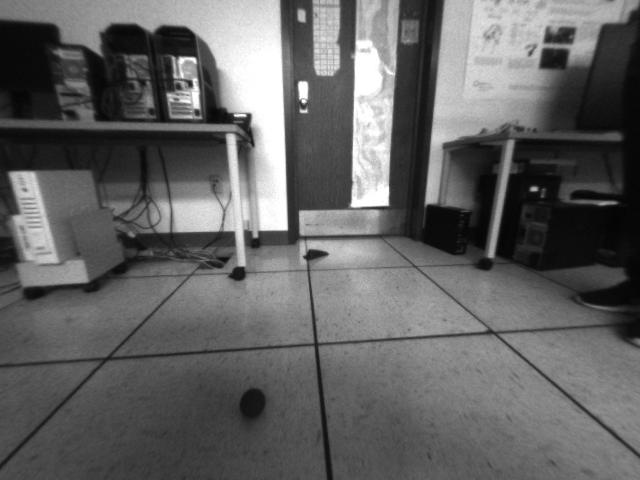dogtoy: (229, 382, 278, 428)
